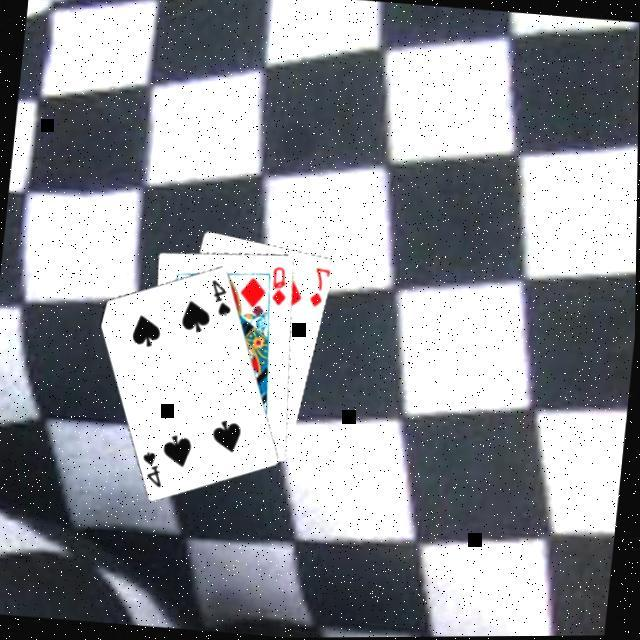4S: (204, 275, 236, 318), (135, 446, 166, 488)
7D: (304, 262, 331, 309)
QD: (265, 262, 291, 308)
